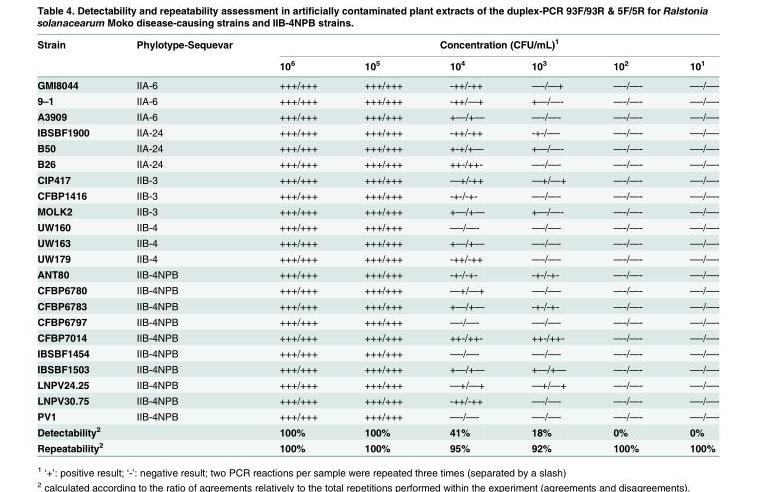table: (36, 36, 718, 453)
table column: (112, 36, 255, 453), (255, 36, 340, 453), (340, 36, 425, 453), (425, 36, 507, 453), (507, 36, 588, 453), (588, 36, 665, 453), (36, 36, 112, 453), (665, 36, 718, 453)
table column header: (36, 36, 718, 74)
table row: (36, 54, 718, 74), (36, 36, 718, 54), (36, 74, 718, 92), (36, 92, 718, 108), (36, 123, 718, 139), (36, 139, 718, 155), (36, 155, 718, 171), (36, 171, 718, 187), (36, 202, 718, 218), (36, 218, 718, 234), (36, 234, 718, 250), (36, 265, 718, 281), (36, 281, 718, 297), (36, 297, 718, 313), (36, 313, 718, 329), (36, 344, 718, 360), (36, 360, 718, 376), (36, 376, 718, 392), (36, 392, 718, 408), (36, 108, 718, 123), (36, 187, 718, 202), (36, 250, 718, 265), (36, 329, 718, 344), (36, 408, 718, 423), (36, 423, 718, 438), (36, 438, 718, 453)
table spanning cell: (255, 36, 718, 54), (112, 36, 255, 74), (36, 423, 255, 438), (36, 438, 255, 453), (36, 36, 112, 74)
